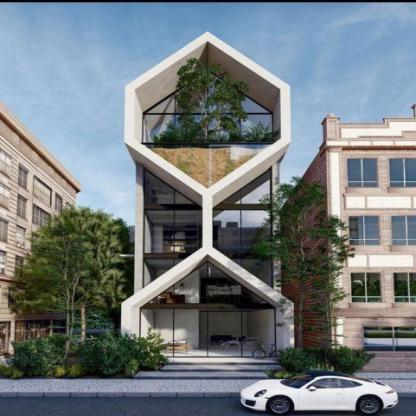Balcony: (132, 255, 285, 363)
Building Outline: (121, 31, 293, 363)
Facade: (121, 32, 293, 364)
Floor Slab: (144, 253, 271, 256), (145, 204, 270, 207), (148, 304, 269, 307)
Glass Wall: (141, 309, 274, 356), (146, 72, 271, 113), (149, 263, 267, 304), (144, 115, 272, 148), (212, 210, 271, 253), (145, 210, 203, 253)
Window: (134, 41, 281, 189), (221, 169, 270, 204), (145, 171, 194, 204), (228, 259, 272, 287), (144, 259, 184, 286)
